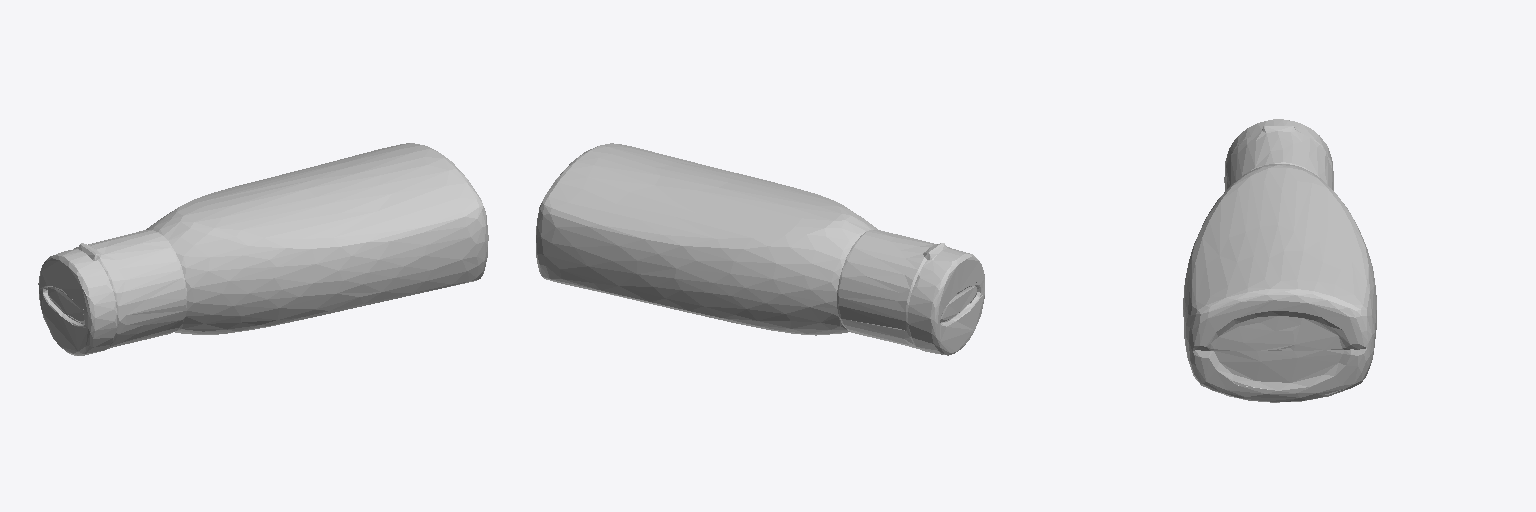
Rendered from Ketchup.obj.
The picture shows the model from 3 angles: view 1: azimuth 30°, elevation 25°; view 2: azimuth 150°, elevation 25°; view 3: azimuth 270°, elevation 25°; orthographic projection.
Parts seen in each view (by area): view 1: textured; view 2: textured; view 3: textured.
Part boxes in pixels (bbox=[...]): textured: bbox=[38, 143, 488, 355]; textured: bbox=[536, 143, 984, 355]; textured: bbox=[1183, 119, 1376, 402].
Bounding box in the file's own units: 0.1486 × 0.0421 × 0.0645.